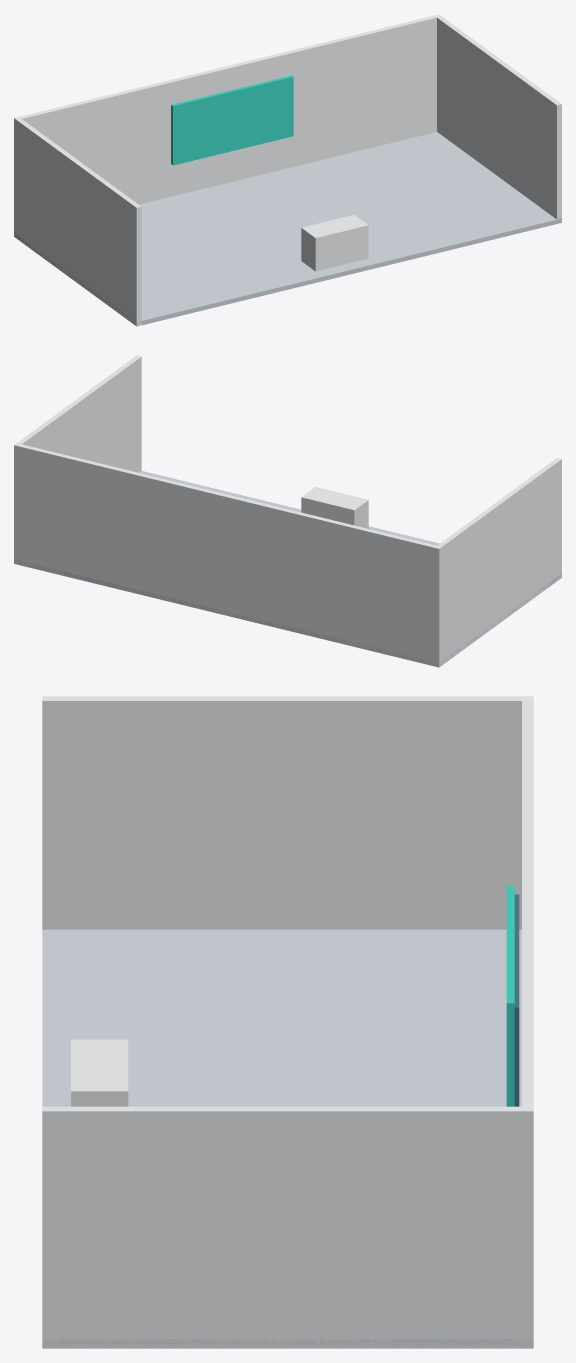
3 views of the same model, one above another, from view 1: azimuth 30°, elevation 25°; view 2: azimuth 150°, elevation 25°; view 3: azimuth 270°, elevation 25° (orthographic). The views are drawn at different scales.
Visible parts, largest first — view 1: Exhibition Booth Concept; view 2: Exhibition Booth Concept; view 3: Exhibition Booth Concept.
Boxes of the visible parts, <box> form: Exhibition Booth Concept: <box>14,14,561,326</box>; Exhibition Booth Concept: <box>14,355,561,667</box>; Exhibition Booth Concept: <box>42,696,533,1348</box>.
Bounding box in the file's own units: 12 × 3.2 × 6.
